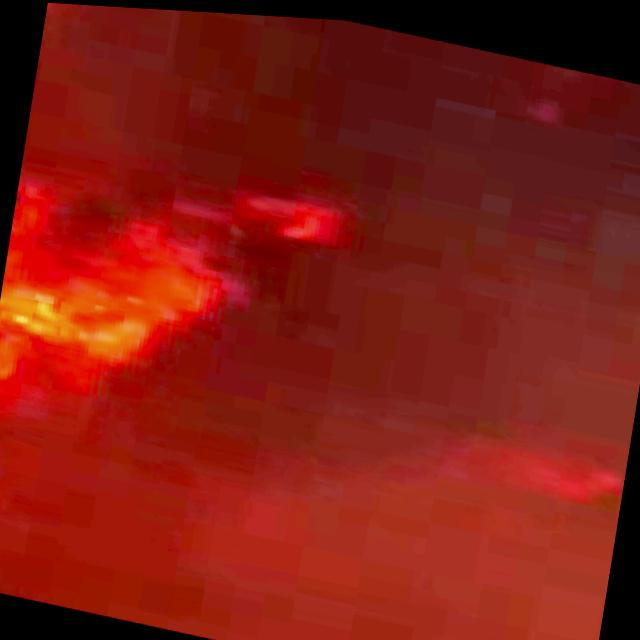fire: (0, 128, 365, 494)
smoke: (318, 213, 640, 640)
